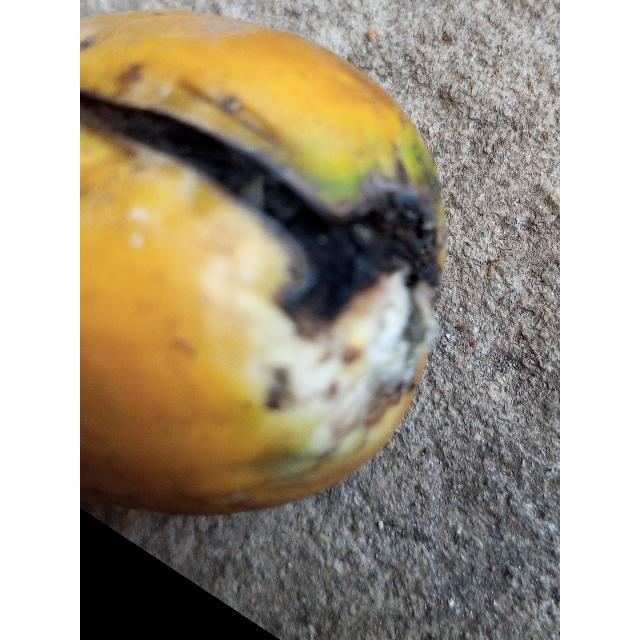damaged: (80, 9, 445, 520)
